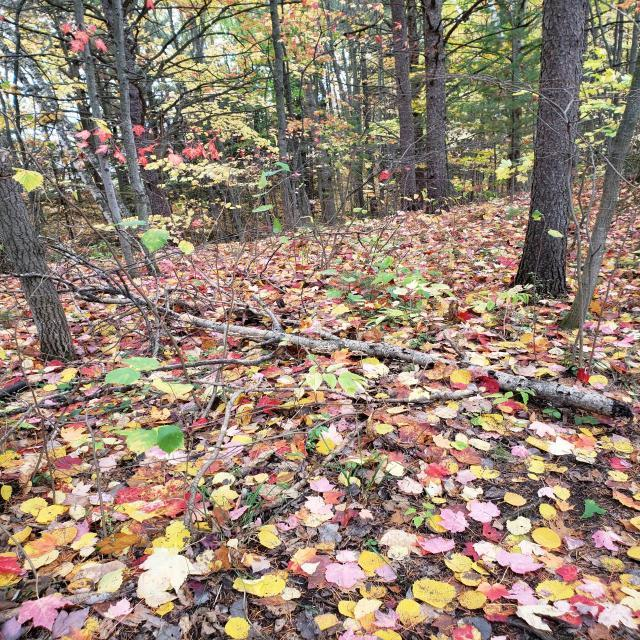fallen_object: (22, 225, 640, 444)
